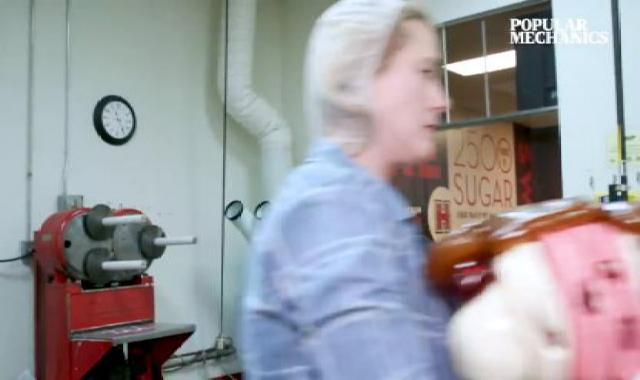hairnet: (284, 2, 426, 162)
